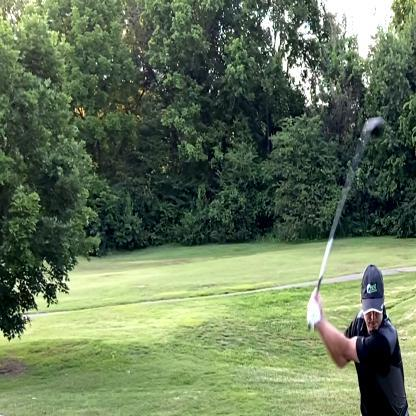GolfBall: (358, 112, 386, 148)
